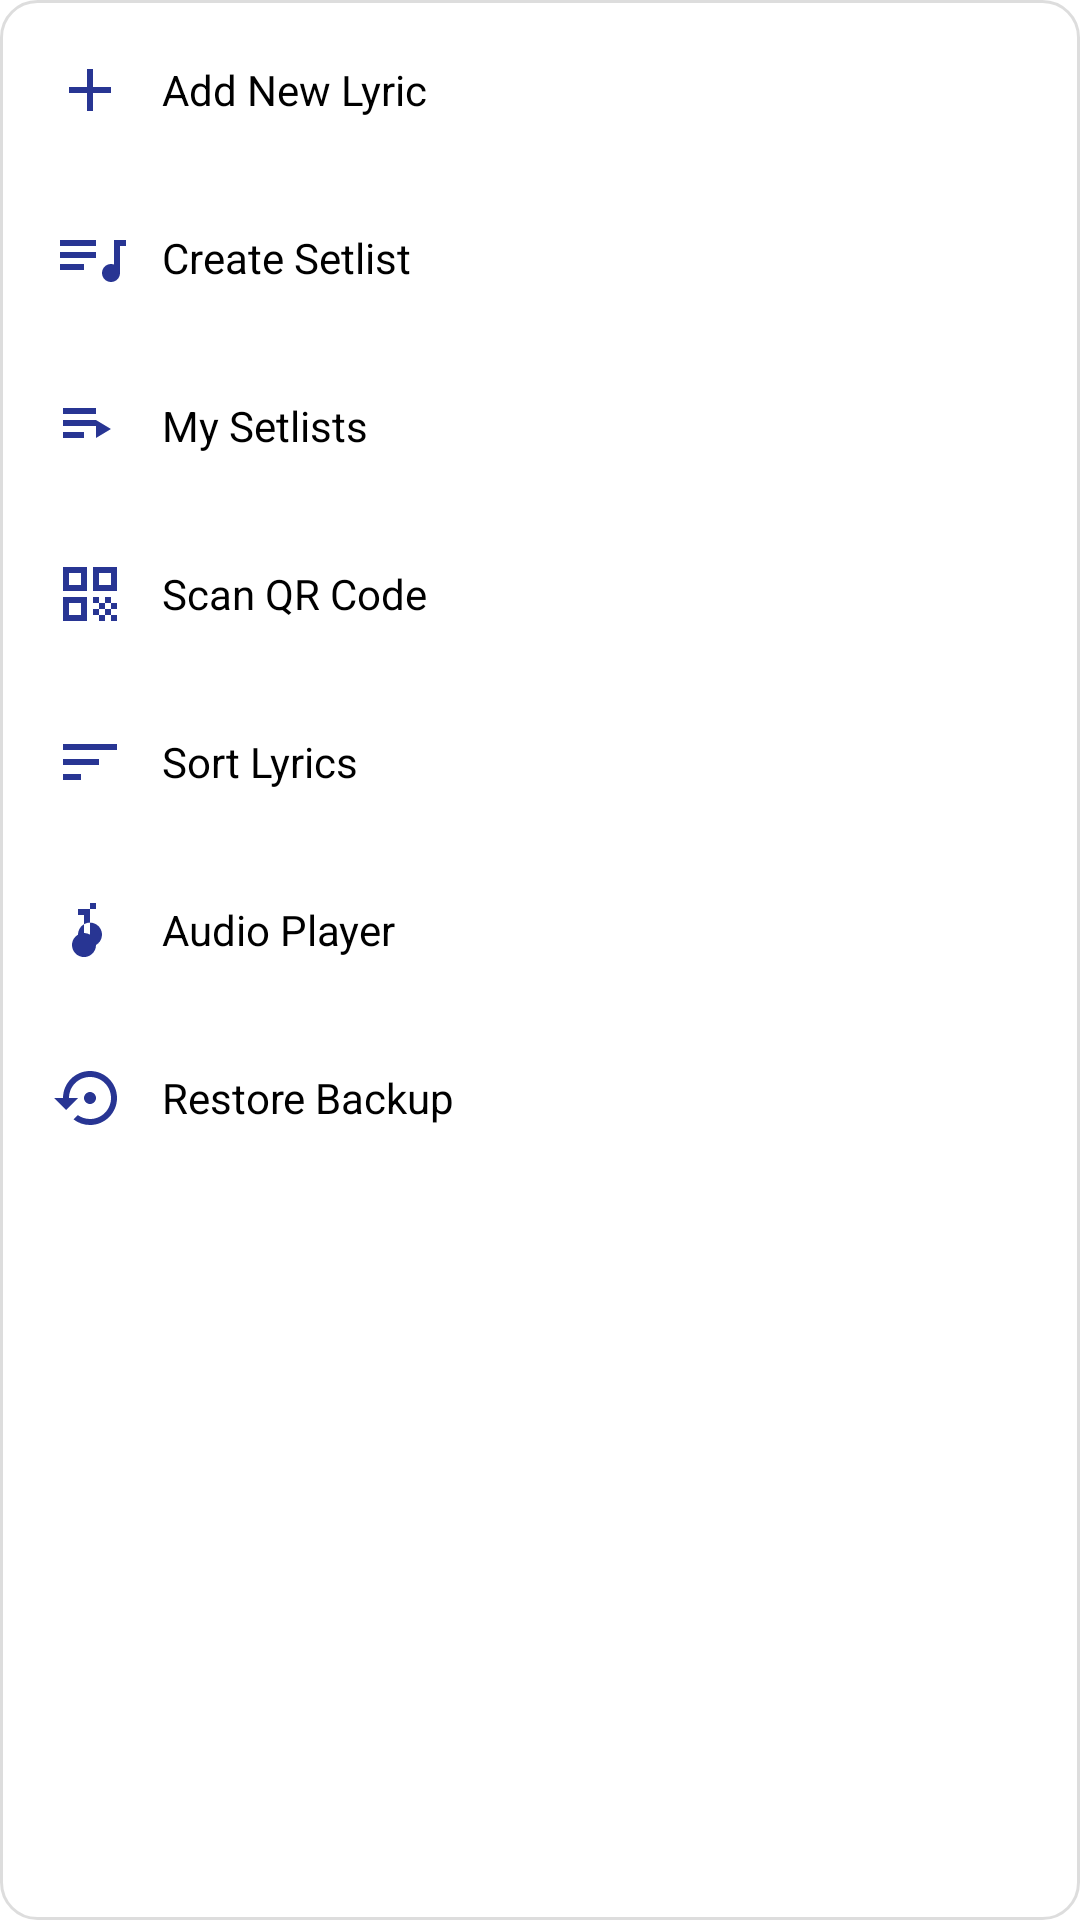

Icon click points for this 1080 x 1920 phone screenshot, format (x,y):
playlist add: (93,261)
playlist play: (87,423)
